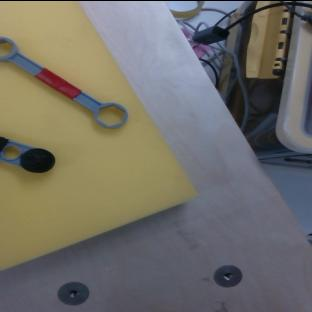part_1_bad: (0, 136, 57, 177)
part_3_good: (0, 33, 131, 134)
